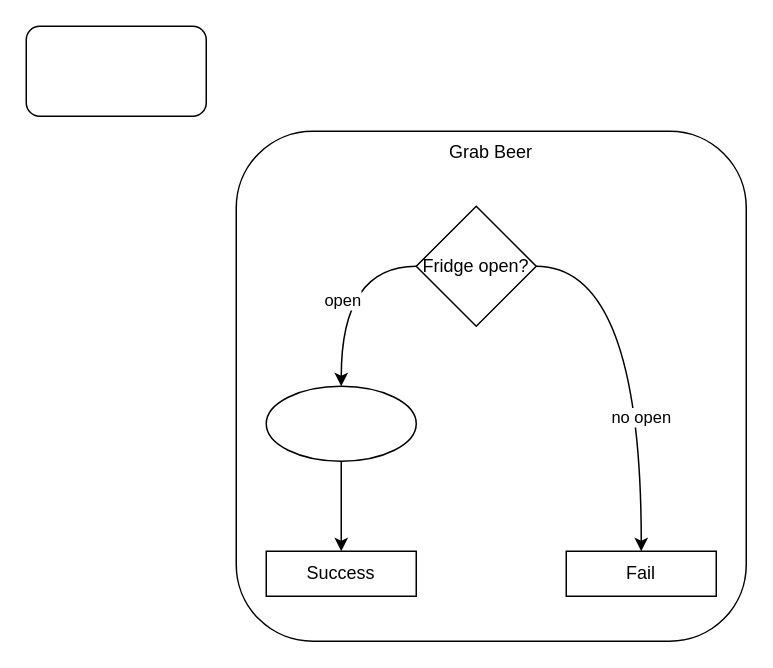
Image size: 773x668. Some labels were removed from this diagram. The shapes that lost their labels are listed below. From the top down, each one's centre as x and y in pixels, then its label:
At point 115,70: "enter: Open Fridge [Grab Beer] exit: Close Fridge".
At point 340,423: "Take Beer".
